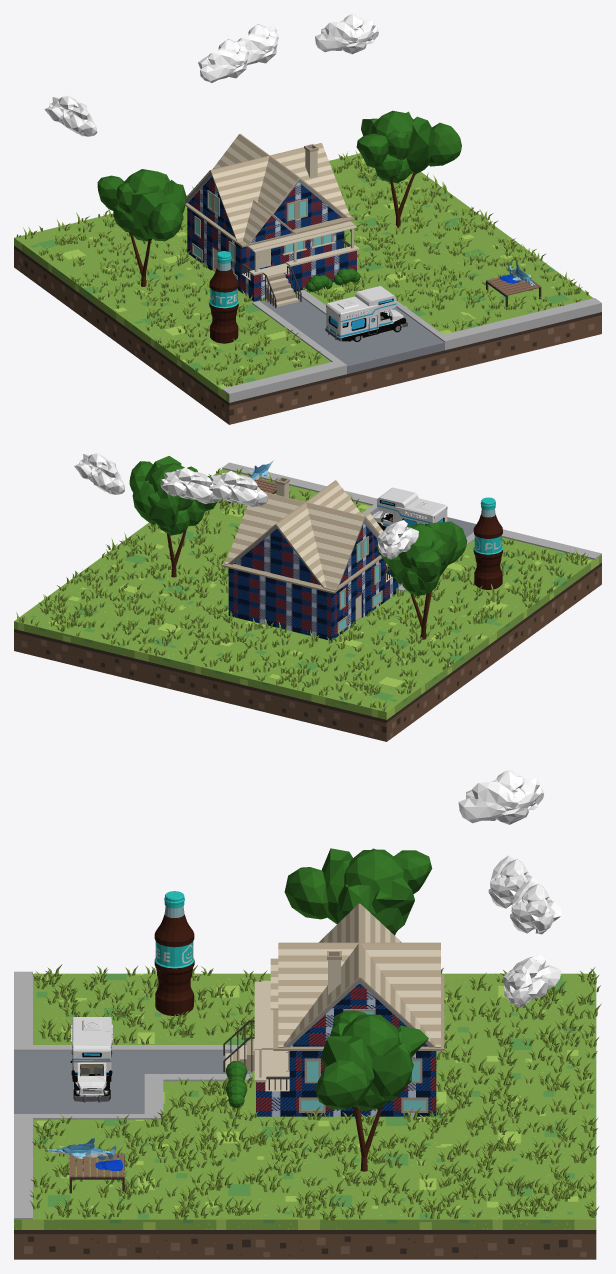
3 views of the same model, one above another, from view 1: azimuth 30°, elevation 25°; view 2: azimuth 150°, elevation 25°; view 3: azimuth 270°, elevation 25° (orthographic). The views are drawn at different scales.
Visible parts, largest first — view 1: Cube.006, Cube.171, Circle.012_Grass_0.192, Cube.007, tree, tree.001, VEHICLES_CAMPER, OBJRANDOM_PLATZEECOLA, Cube.009; view 2: Cube.006, Cube.171, Circle.012_Grass_0.192, Cube.007, tree.001, tree, OBJRANDOM_PLATZEECOLA, VEHICLES_CAMPER; view 3: Cube.006, Circle.012_Grass_0.192, Cube.171, tree, Cube.007, tree.001, OBJRANDOM_PLATZEECOLA, VEHICLES_CAMPER, Cube.009, ANIMAL_PEZ_ESPADA.
Part boxes in pixels (x1=…): Cube.006: x1=14, y1=153, x2=601, y2=424; Cube.171: x1=185, y1=134, x2=359, y2=307; Circle.012_Grass_0.192: x1=16, y1=150, x2=588, y2=386; Cube.007: x1=44, y1=14, x2=378, y2=136; tree: x1=356, y1=110, x2=461, y2=228; tree.001: x1=97, y1=169, x2=186, y2=286; VEHICLES_CAMPER: x1=325, y1=286, x2=407, y2=341; OBJRANDOM_PLATZEECOLA: x1=209, y1=251, x2=238, y2=343; Cube.009: x1=486, y1=275, x2=541, y2=306; Cube.006: x1=14, y1=462, x2=601, y2=741; Cube.171: x1=221, y1=477, x2=398, y2=640; Circle.012_Grass_0.192: x1=16, y1=468, x2=588, y2=711; Cube.007: x1=74, y1=453, x2=418, y2=559; tree.001: x1=375, y1=521, x2=467, y2=639; tree: x1=129, y1=456, x2=216, y2=577; OBJRANDOM_PLATZEECOLA: x1=473, y1=497, x2=502, y2=589; VEHICLES_CAMPER: x1=372, y1=487, x2=447, y2=530; Cube.006: x1=14, y1=971, x2=596, y2=1259; Circle.012_Grass_0.192: x1=29, y1=964, x2=601, y2=1220; Cube.171: x1=223, y1=903, x2=444, y2=1116; tree: x1=315, y1=1010, x2=428, y2=1171; Cube.007: x1=458, y1=770, x2=561, y2=1007; tree.001: x1=284, y1=848, x2=432, y2=935; OBJRANDOM_PLATZEECOLA: x1=154, y1=891, x2=194, y2=1015; VEHICLES_CAMPER: x1=70, y1=1017, x2=112, y2=1102; Cube.009: x1=69, y1=1153, x2=124, y2=1193; ANIMAL_PEZ_ESPADA: x1=42, y1=1138, x2=123, y2=1171.
Bounding box in the file's own units: 4071 × 2277 × 4040.
Materials: 35 (4 with a texture image).
